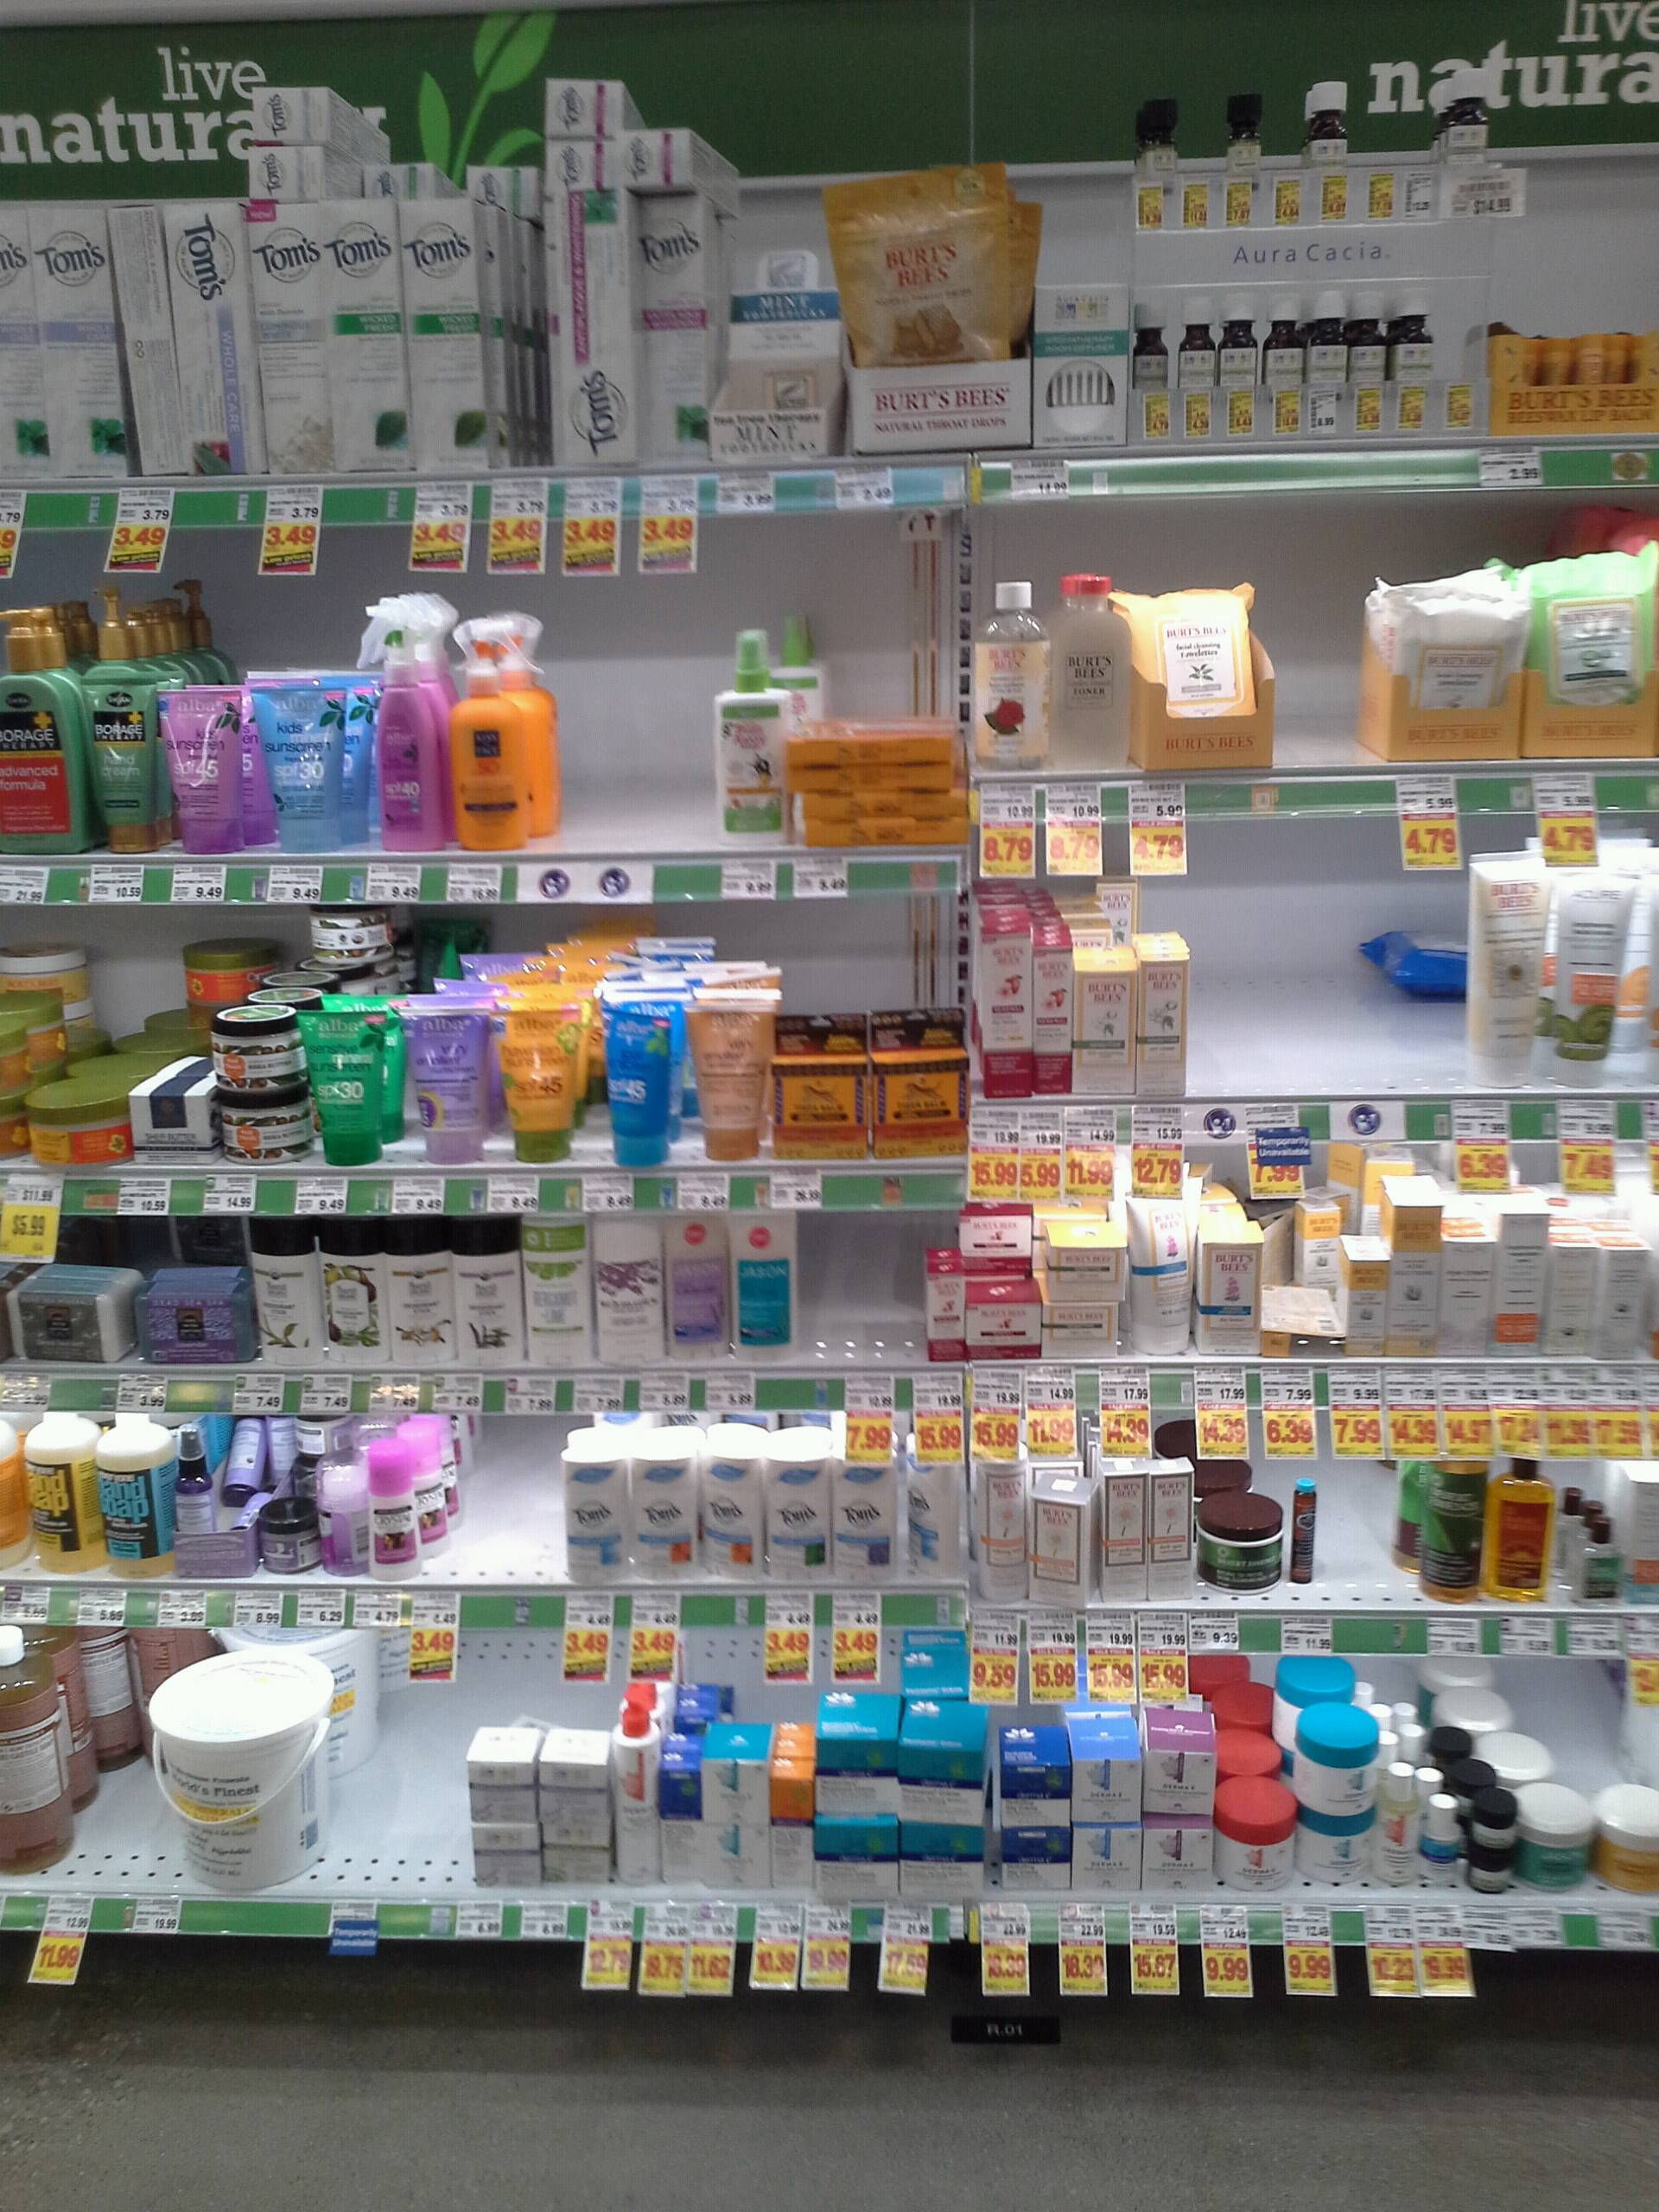Out-of-stock: (1190, 894, 1328, 1094)
